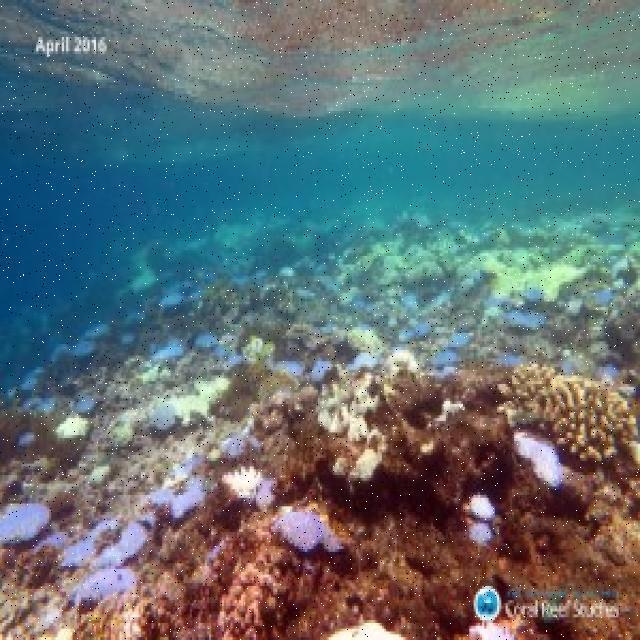Bleached: (487, 262, 575, 301), (327, 381, 378, 441), (182, 382, 226, 415), (383, 347, 419, 380), (228, 469, 261, 502), (57, 411, 88, 438), (360, 453, 386, 476)
Healthy: (203, 534, 313, 640), (521, 362, 639, 450), (70, 540, 144, 595), (154, 328, 248, 365), (285, 510, 335, 555), (154, 479, 210, 517), (4, 493, 43, 542), (158, 275, 211, 308), (477, 495, 501, 551), (403, 311, 431, 349), (149, 400, 184, 430), (502, 309, 547, 331), (445, 328, 468, 369)
